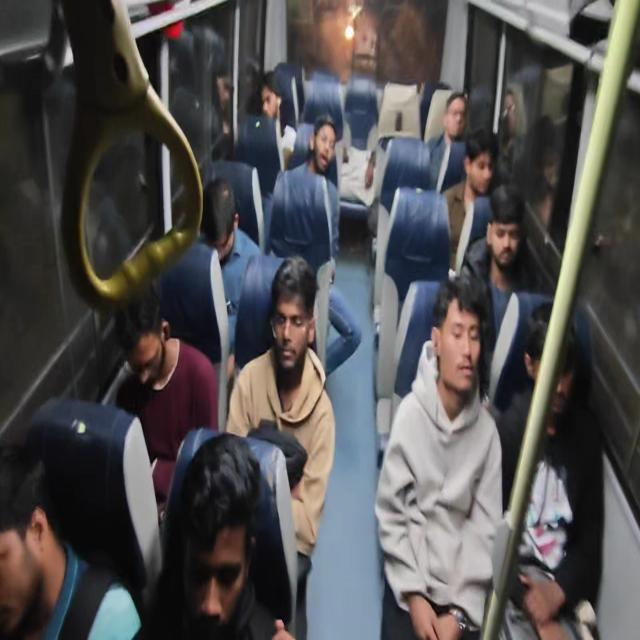person: (374, 272, 504, 638), (226, 254, 336, 636), (493, 311, 604, 639), (137, 431, 296, 638), (24, 395, 163, 597), (0, 447, 143, 639), (268, 112, 362, 376), (114, 284, 218, 514), (460, 182, 544, 398), (199, 176, 262, 355), (441, 127, 498, 275), (237, 70, 294, 196), (515, 115, 562, 232), (427, 90, 468, 192), (259, 71, 296, 168), (496, 82, 527, 180), (210, 65, 234, 161)
